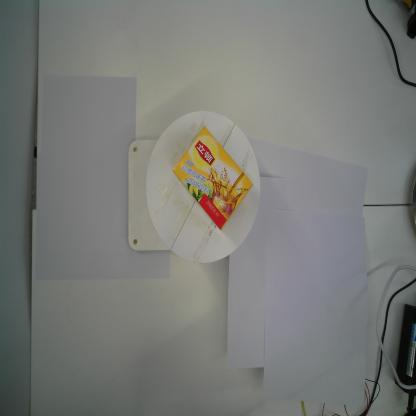Instant Drink: (172, 124, 255, 231)
